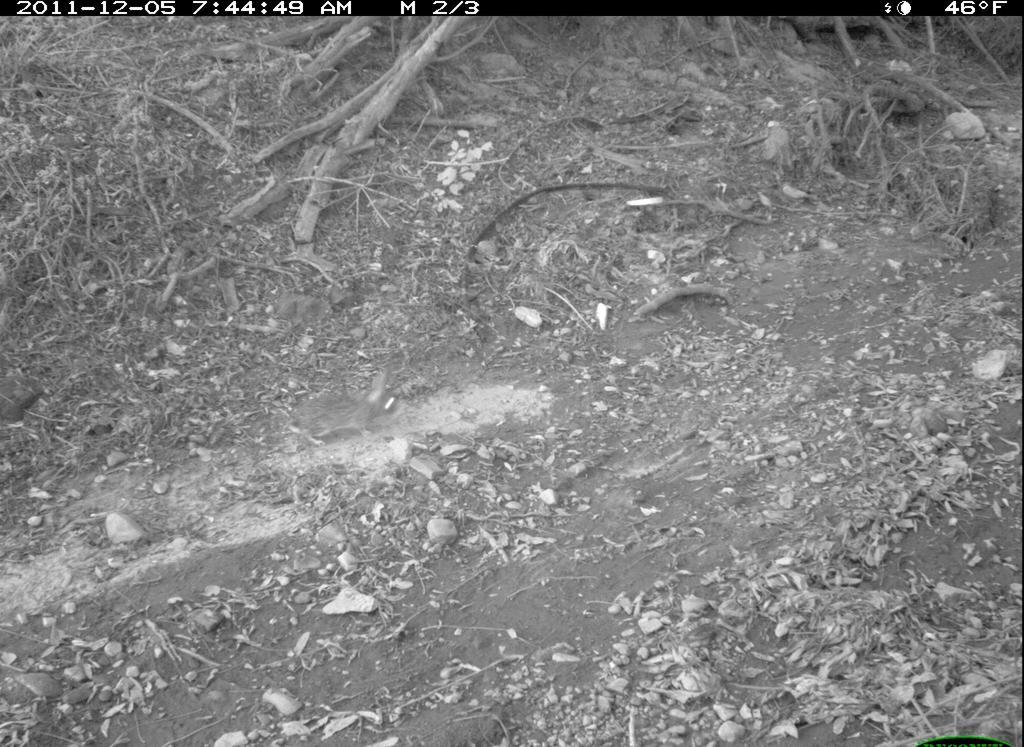rabbit: (289, 370, 405, 455)
